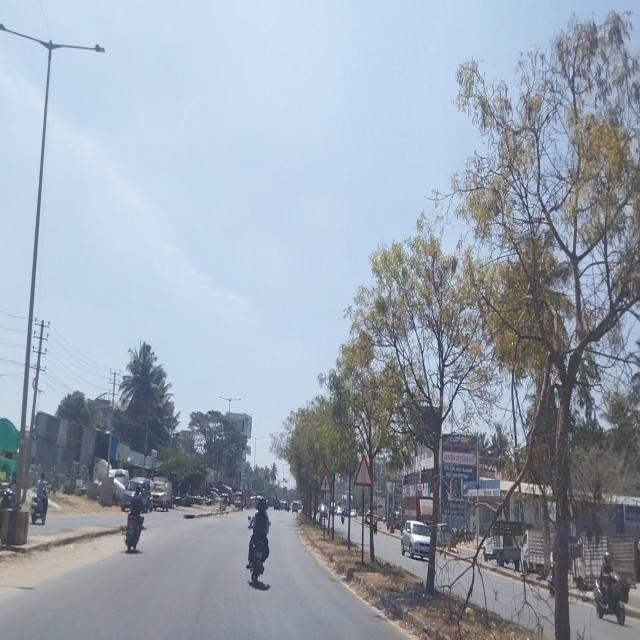bien_nguy_hiem: (353, 452, 374, 488), (318, 471, 332, 493)
